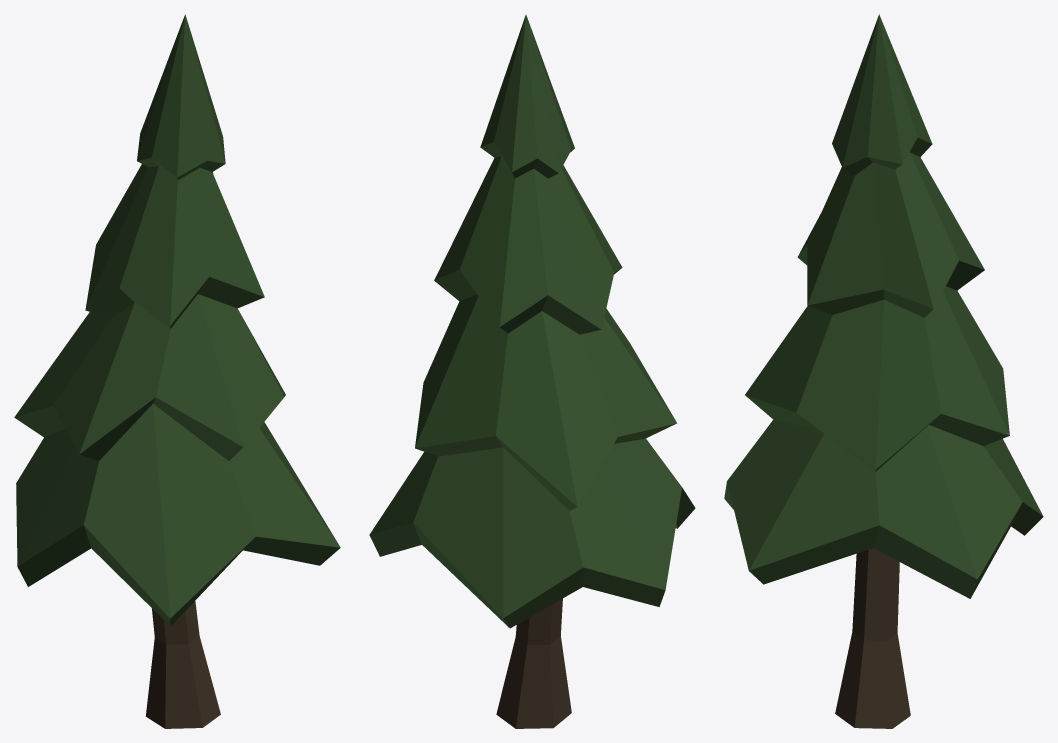
The model's file is tree_pine_01.fbx.
The picture shows the model from 3 angles, left to right: view 1: azimuth 30°, elevation 25°; view 2: azimuth 150°, elevation 25°; view 3: azimuth 270°, elevation 25°; orthographic projection.
Parts seen in each view (by area): view 1: pine_tree_01; view 2: pine_tree_01; view 3: pine_tree_01.
Part boxes in pixels (x1,y1,x2,y2): pine_tree_01: (14, 14, 340, 728); pine_tree_01: (369, 14, 695, 728); pine_tree_01: (724, 14, 1043, 728).
Bounding box in the file's own units: 0.2183 × 0.5597 × 0.23.
